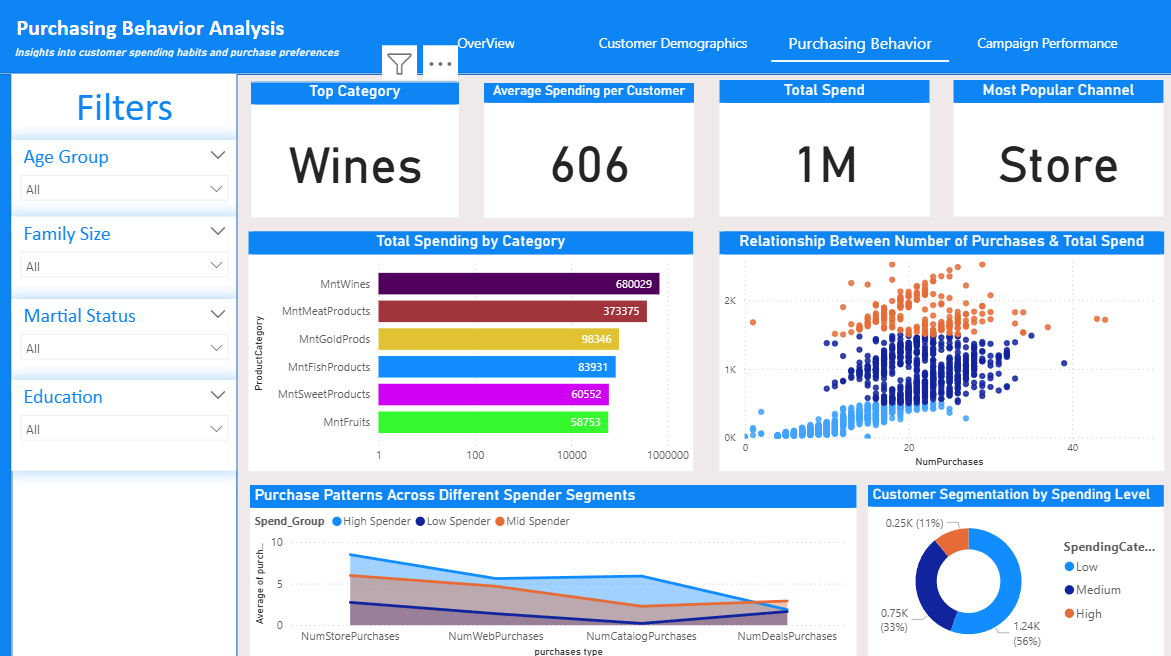

This screenshot's page, from the dashboard's own definition file:
{"tool":"powerbi","page":{"name":"Purchasing Behavior","canvas":[1280,720],"ordinal":2},"visuals":[{"type":"shape","box":[0,0,1281.3,86.9],"z":0},{"type":"shape","box":[0,86.9,17,633.1],"z":1000},{"type":"textbox","title":"Purchasing Behavior Analysis","box":[17,22.7,340.2,34],"z":2000},{"type":"textbox","title":"Insights into customer spending habits and purchase preferences","box":[16.6,57.1,389,12.9],"z":3000},{"type":"shape","box":[17,86.9,243.8,633.1],"z":4000},{"type":"textbox","title":"Filters","box":[17,86.9,243.8,88.8],"z":5000},{"type":"slicer","fields":{"Values":["Marketing Campaign CLeaned.Age_Group"]},"box":[17,158.7,243.8,98.3],"z":6000},{"type":"slicer","fields":{"Values":["Marketing Campaign CLeaned.FamilySize"]},"box":[17,241.9,243.8,103.9],"z":7000},{"type":"slicer","fields":{"Values":["Marketing Campaign CLeaned.Marital_Status"]},"box":[17,330.7,243.8,100.2],"z":8000},{"type":"slicer","fields":{"Values":["Marketing Campaign CLeaned.Education"]},"box":[17,417.6,243.8,98.3],"z":9000},{"type":"shape","box":[260.8,86.9,1018.6,633.1],"z":10000},{"type":"card","title":"Total Spend","fields":{"Values":["Sum(Marketing Campaign CLeaned.TotalSpend)"]},"box":[781.6,94,226.8,147.5],"z":11000},{"type":"card","title":"Average Spending per Customer","fields":{"Values":["Avg(Marketing Campaign CLeaned.TotalSpend)"]},"box":[527.2,96.4,226.8,145.5],"z":12000},{"type":"card","title":"Most Popular Channel","fields":{"Values":["Marketing Campaign CLeaned.Most Popular Channel Name"]},"box":[1034.2,94,226.8,147.5],"z":13000},{"type":"card","title":"Top Category","fields":{"Values":["Marketing Campaign CLeaned.Top Category Name"]},"box":[274.7,95.9,226.8,147.5],"z":14000},{"type":"barChart","title":"Total Spending by Category","fields":{"Category":["marketing campaign unpivot (2).ProductCategory"],"Y":["Sum(marketing campaign unpivot (2).AmountSpent)"]},"box":[274,257,480,258.9],"z":15000},{"type":"areaChart","title":"Purchase Patterns Across Different Spender Segments","fields":{"Category":["Marketing Campaign unpivot purchases.purchases type"],"Y":["Avg(Marketing Campaign unpivot purchases.purchases num)"],"Series":["Marketing Campaign unpivot purchases.Spend_Group"]},"box":[274.7,530.9,654.4,189.9],"z":16000},{"type":"donutChart","title":"Customer Segmentation by Spending Level","fields":{"Y":["Marketing Campaign CLeaned.Total Customers"],"Category":["Marketing Campaign CLeaned.SpendingCategory"]},"box":[943,531,319.4,189],"z":17000},{"type":"scatterChart","title":"Relationship Between Number of Purchases & Total Spend","fields":{"X":["Marketing Campaign CLeaned.NumPurchases"],"Y":["Marketing Campaign CLeaned.TotalSpend"]},"box":[782.4,257,480,258.9],"z":19000},{"type":"pageNavigator","box":[433.2,33.2,800.1,42.4],"z":19001}]}

Visuals, with their boxes on the page's 1280x720 design canvas (x1, y1, x2, y2). These are canvas units, not pixel positions in the 1171x656 screenshot, which may show the page scaled, cropped or inside an application window:
shape: box=[0, 0, 1281, 87]
shape: box=[0, 87, 17, 720]
"Purchasing Behavior Analysis" textbox: box=[17, 23, 357, 57]
"Insights into customer spending habits and purchase preferences" textbox: box=[17, 57, 406, 70]
shape: box=[17, 87, 261, 720]
"Filters" textbox: box=[17, 87, 261, 176]
slicer - Marketing Campaign CLeaned.Age_Group: box=[17, 159, 261, 257]
slicer - Marketing Campaign CLeaned.FamilySize: box=[17, 242, 261, 346]
slicer - Marketing Campaign CLeaned.Marital_Status: box=[17, 331, 261, 431]
slicer - Marketing Campaign CLeaned.Education: box=[17, 418, 261, 516]
shape: box=[261, 87, 1279, 720]
"Total Spend" card: box=[782, 94, 1008, 242]
"Average Spending per Customer" card: box=[527, 96, 754, 242]
"Most Popular Channel" card: box=[1034, 94, 1261, 242]
"Top Category" card: box=[275, 96, 502, 243]
"Total Spending by Category" barChart: box=[274, 257, 754, 516]
"Purchase Patterns Across Different Spender Segments" areaChart: box=[275, 531, 929, 721]
"Customer Segmentation by Spending Level" donutChart: box=[943, 531, 1262, 720]
"Relationship Between Number of Purchases & Total Spend" scatterChart: box=[782, 257, 1262, 516]
pageNavigator: box=[433, 33, 1233, 76]
